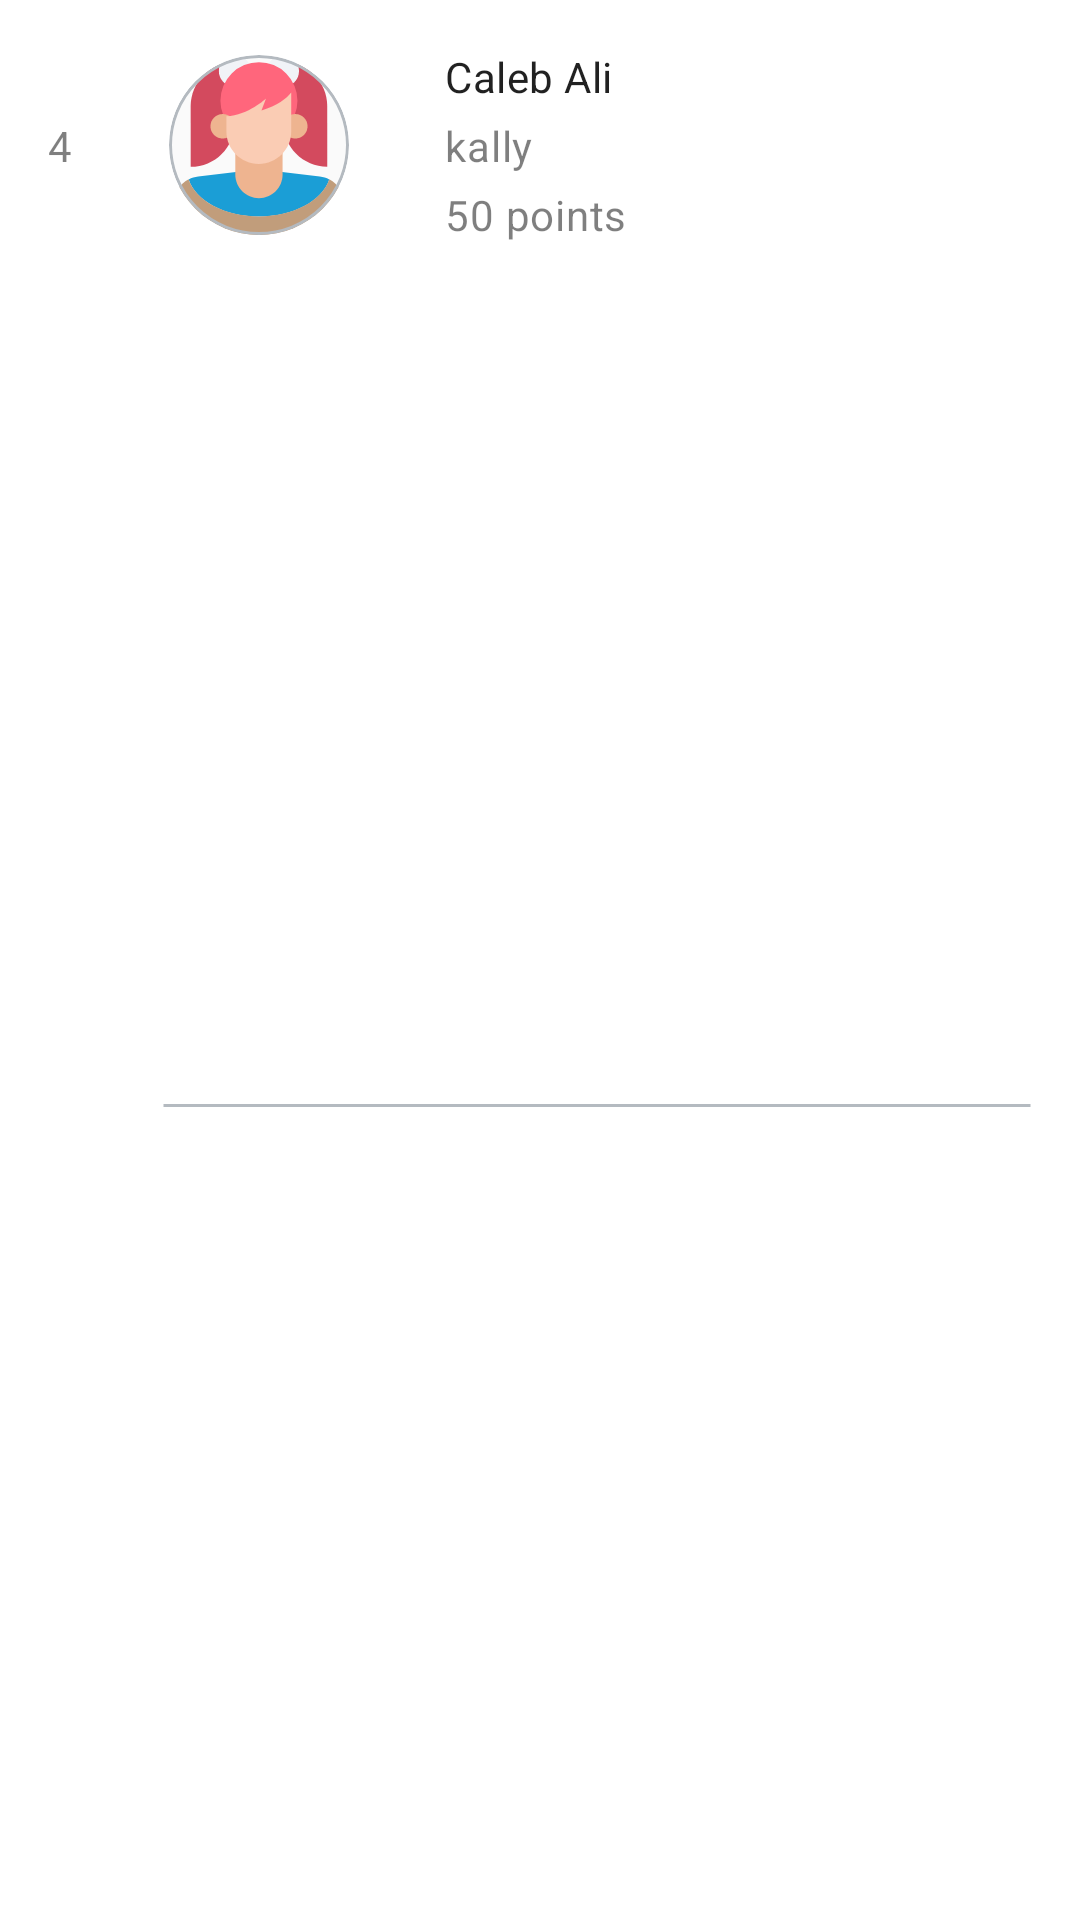

Icons on this 1080 × 1920 Android screen, each with the point to tap as (x=x, y=y):
woman: (x=259, y=145)
